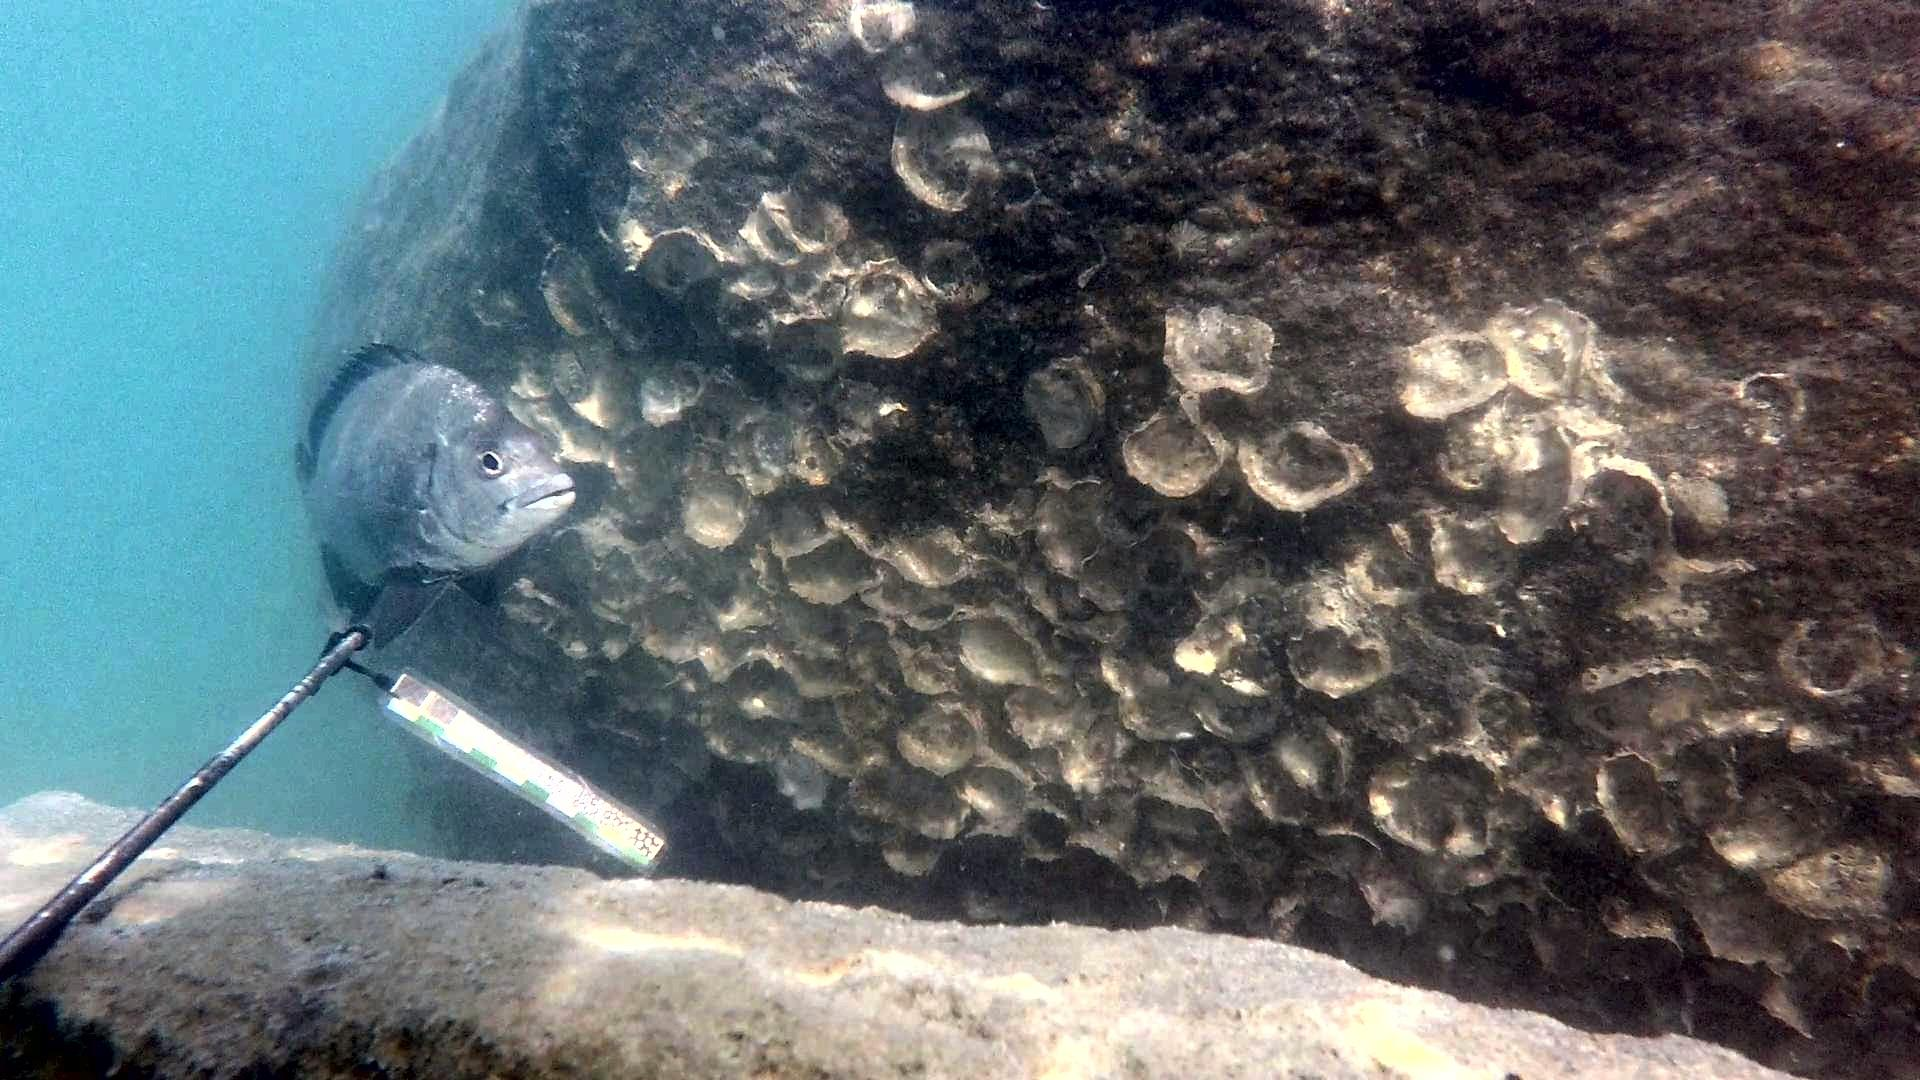acanthopagrus palmaris: (276, 328, 583, 650)
